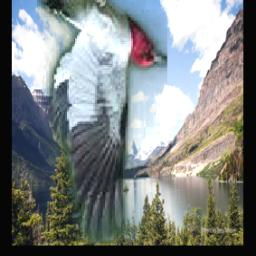Woodpecker: (37, 0, 167, 243)
